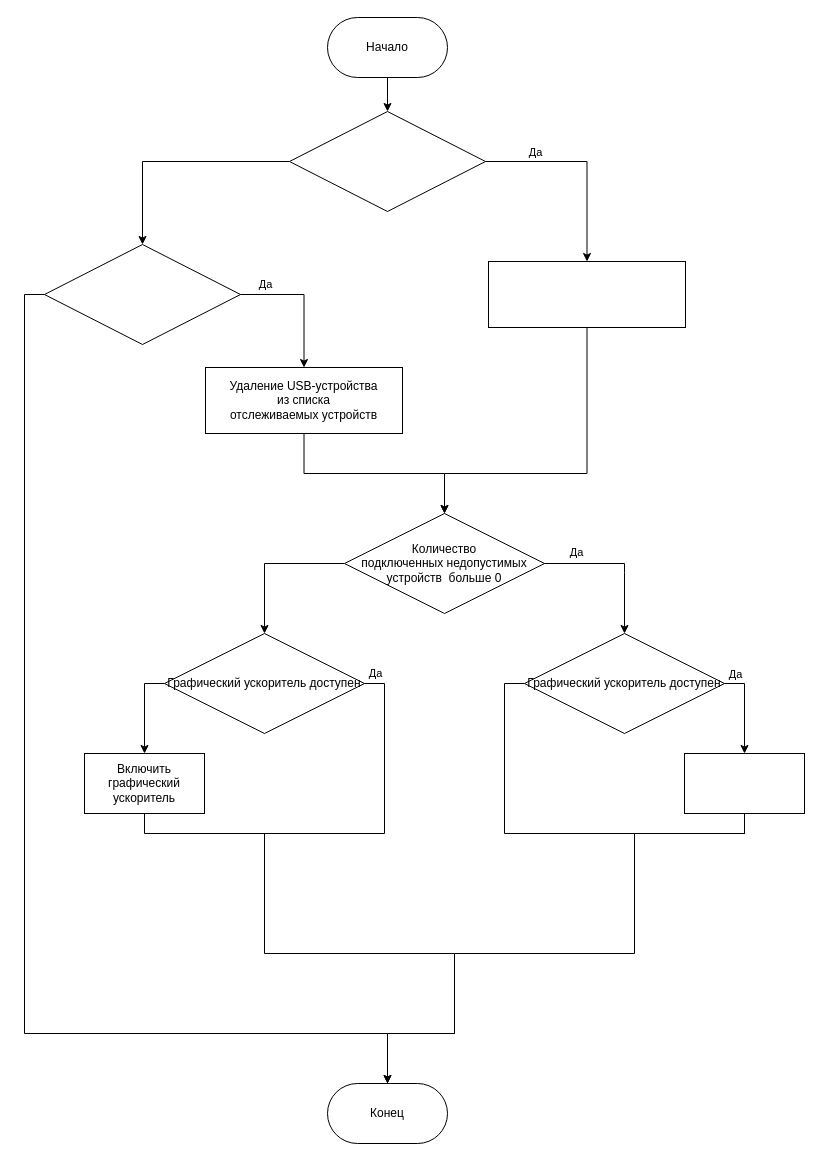
Some shapes in this 822 by 1161 pixel diagram are drawn without their labels. The box of each missing label's shape, as (x1, y1, x2, y2) in pixels:
Выключить графический ускоритель: (684, 752, 804, 814)
Добавление USB-устройства в список отслеживаемых устройств: (488, 260, 686, 328)
Тип события USB_DEVICE_ADD: (288, 110, 486, 212)
Тип события USB_DEVICE_REMOVE: (44, 244, 240, 344)
